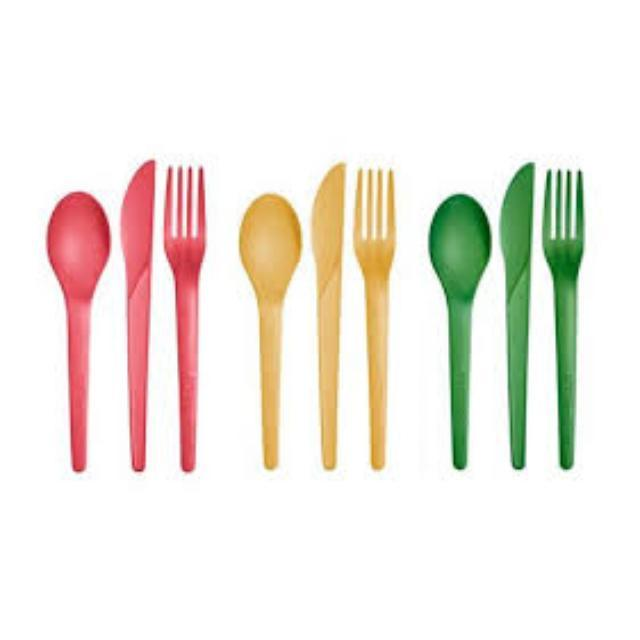Plastico descartable: (425, 192, 493, 478), (46, 191, 113, 478), (334, 167, 396, 468), (238, 194, 304, 471), (163, 164, 206, 475), (542, 170, 584, 473), (499, 163, 535, 473), (311, 164, 346, 471), (122, 162, 154, 472)
